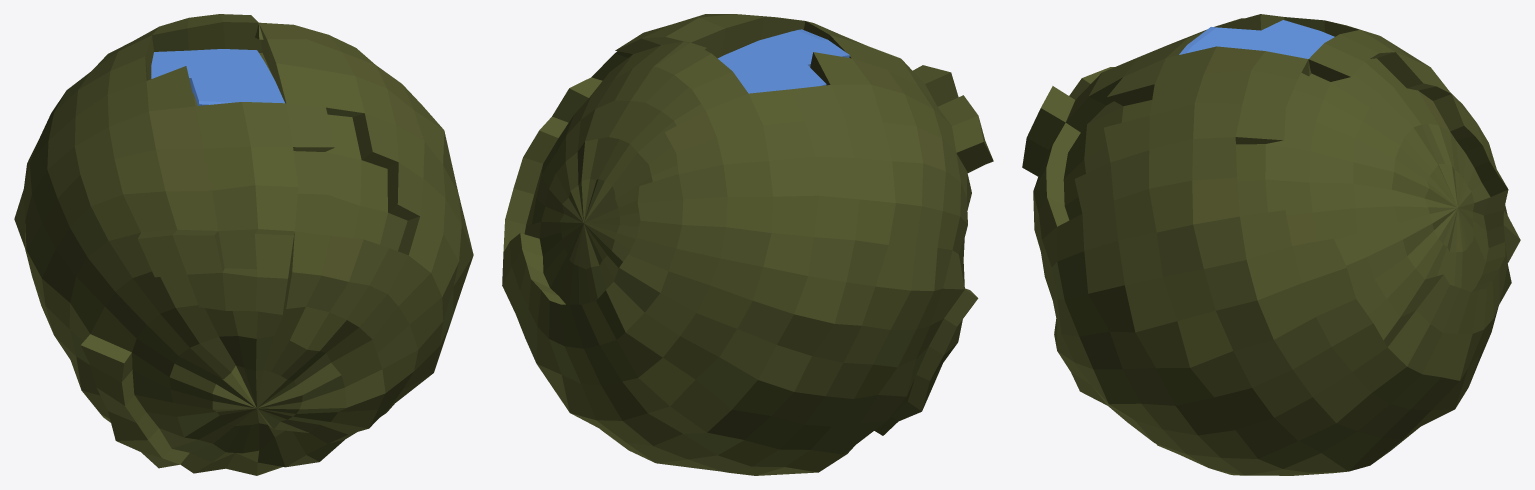
The model's file is planet_01.fbx.
The picture shows the model from 3 angles, left to right: view 1: azimuth 30°, elevation 25°; view 2: azimuth 150°, elevation 25°; view 3: azimuth 270°, elevation 25°; orthographic projection. The views are drawn at different scales.
Parts seen in each view (by area): view 1: Sphere, Cube; view 2: Sphere, Cube; view 3: Sphere, Cube.
Boxes of the visible parts, <box> form: Sphere: <box>14,14,473,475</box>; Cube: <box>151,49,284,105</box>; Sphere: <box>502,14,993,475</box>; Cube: <box>718,29,849,93</box>; Sphere: <box>1022,14,1520,475</box>; Cube: <box>1179,20,1334,58</box>.
Bounding box in the file's own units: 201 × 200 × 214.
